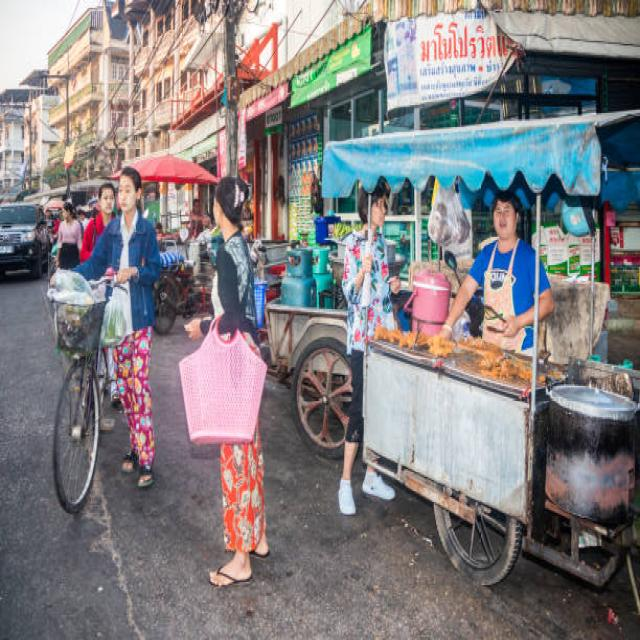Emperan: (305, 96, 640, 634)
